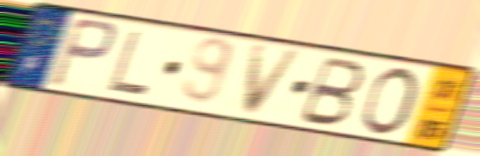9: (179, 34, 238, 111)
B: (295, 54, 368, 129)
L: (105, 28, 152, 98)
O: (356, 64, 422, 138)
P: (46, 15, 121, 91)
V: (240, 43, 308, 118)
